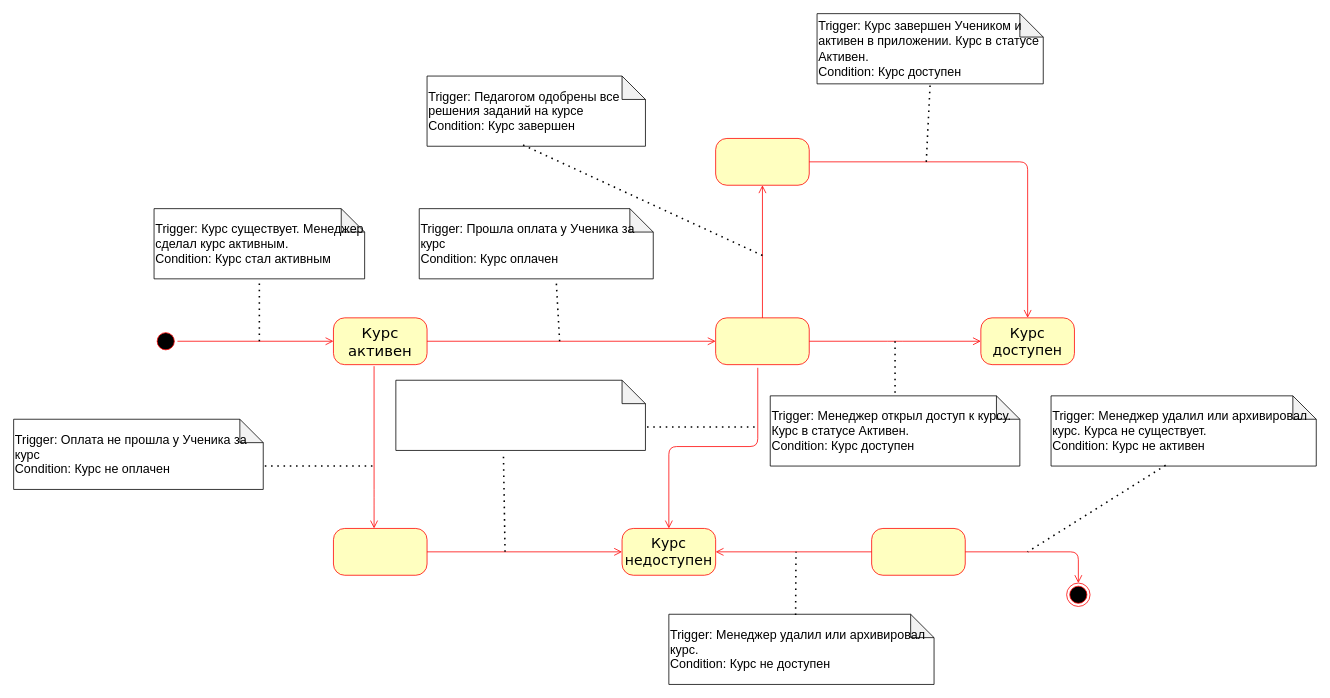
This 1330x698 diagram has some shape labels left out. The centre of each missing label's shape, as x and y in pixels:
"Trigger: Менеджер не открыл доступ к курсу Condition: Курс не доступен" belongs at (520,414).
"Курс завершен" belongs at (762,161).
"Курс не активен" belongs at (918,551).
"Курс не оплачен" belongs at (380,551).
"Курс оплачен" belongs at (762,341).
